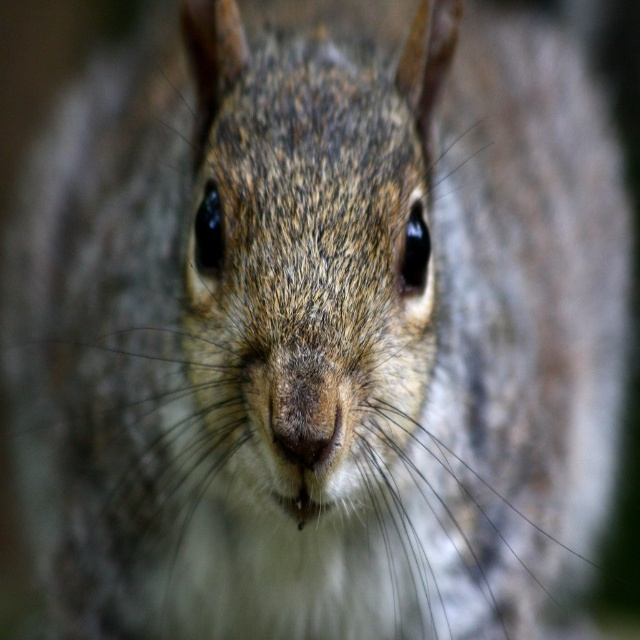Rabbit: (4, 0, 638, 639)
